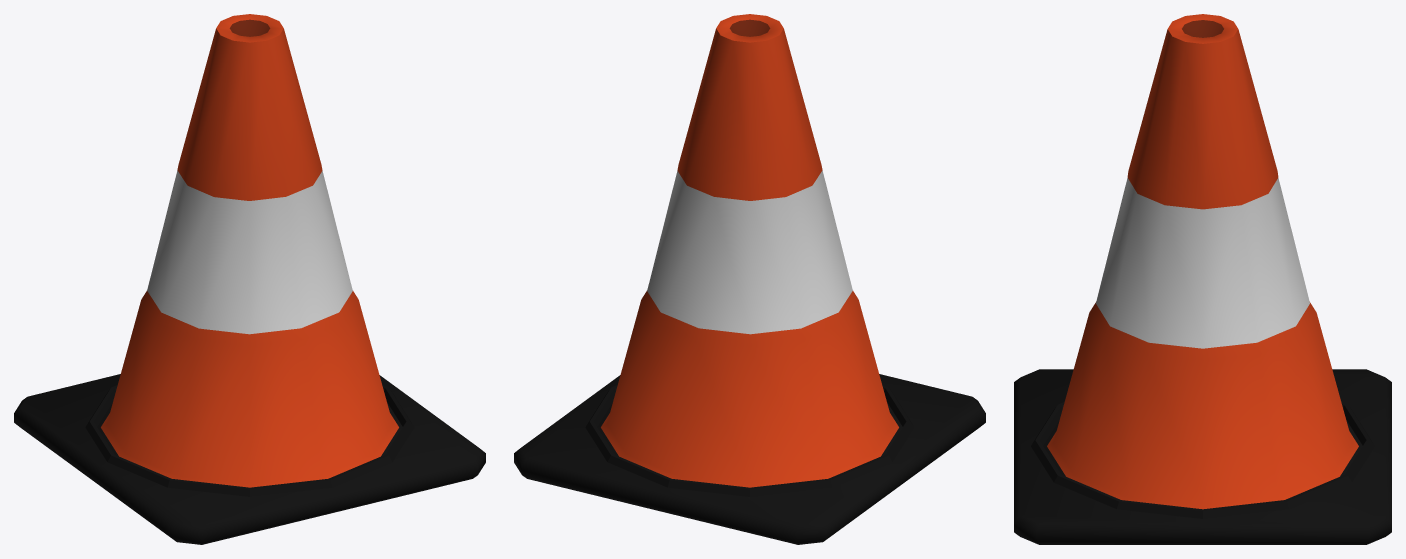
File: Cocone.fbx
The picture shows the model from 3 angles, left to right: view 1: azimuth 30°, elevation 25°; view 2: azimuth 150°, elevation 25°; view 3: azimuth 270°, elevation 25°; orthographic projection. The views are drawn at different scales.
Visible parts, largest first — view 1: Cone; view 2: Cone; view 3: Cone.
Boxes of the visible parts, x1=… form: Cone: x1=14, y1=14, x2=485, y2=544; Cone: x1=514, y1=14, x2=985, y2=544; Cone: x1=1014, y1=14, x2=1391, y2=544.
Bounding box in the file's own units: 160 × 205 × 160.
